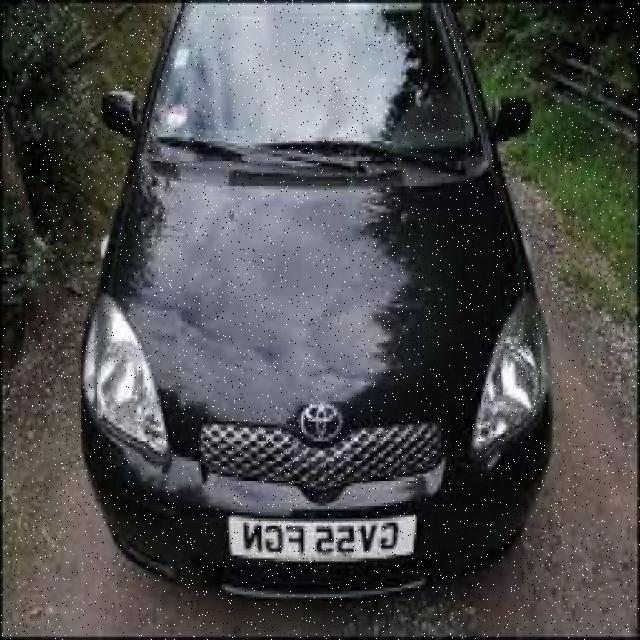damage: (286, 300, 401, 407)
